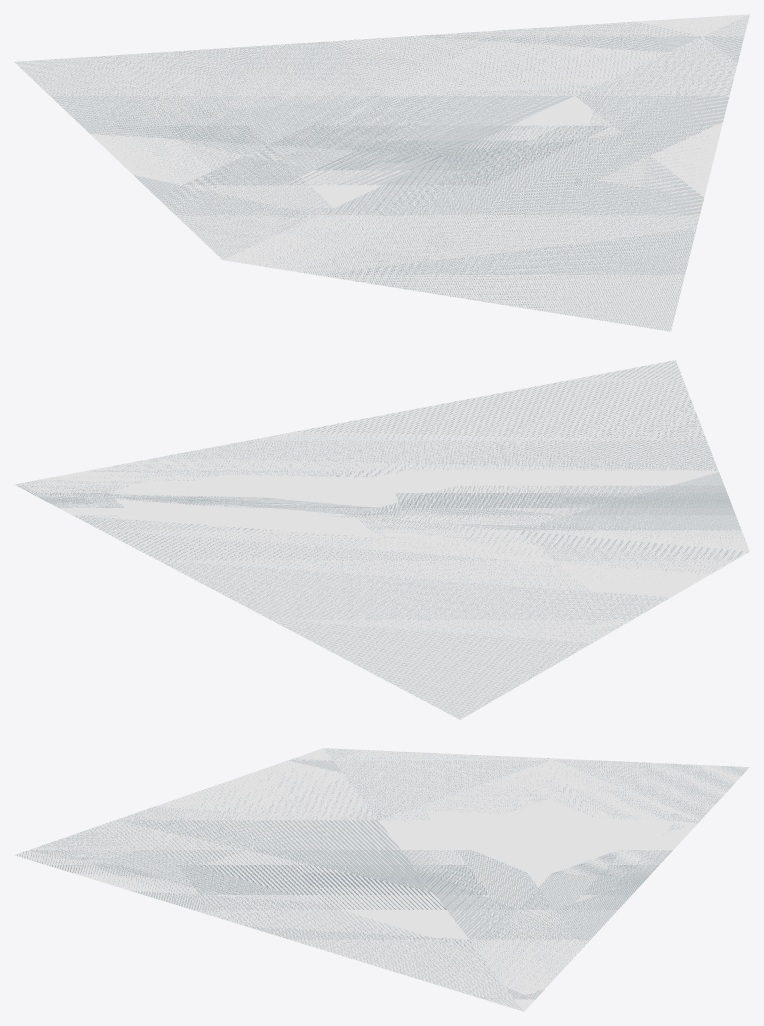
3 views of the same model, one above another, from view 1: azimuth 30°, elevation 25°; view 2: azimuth 150°, elevation 25°; view 3: azimuth 270°, elevation 25° (orthographic). The views are drawn at different scales.
Visible parts, largest first — view 1: Group1; view 2: Group1; view 3: Group1.
Boxes of the visible parts, x1,y1,x2,y2 form: Group1: (14,14,749,331); Group1: (14,360,749,719); Group1: (14,748,749,1011).
Bounding box in the file's own units: 3.56 × 0 × 4.2.
